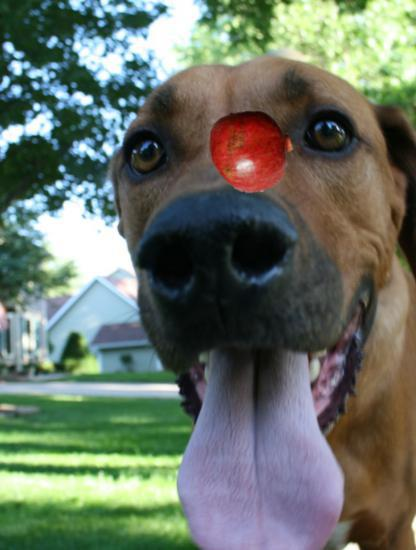Pomegranate: (209, 108, 295, 194)
